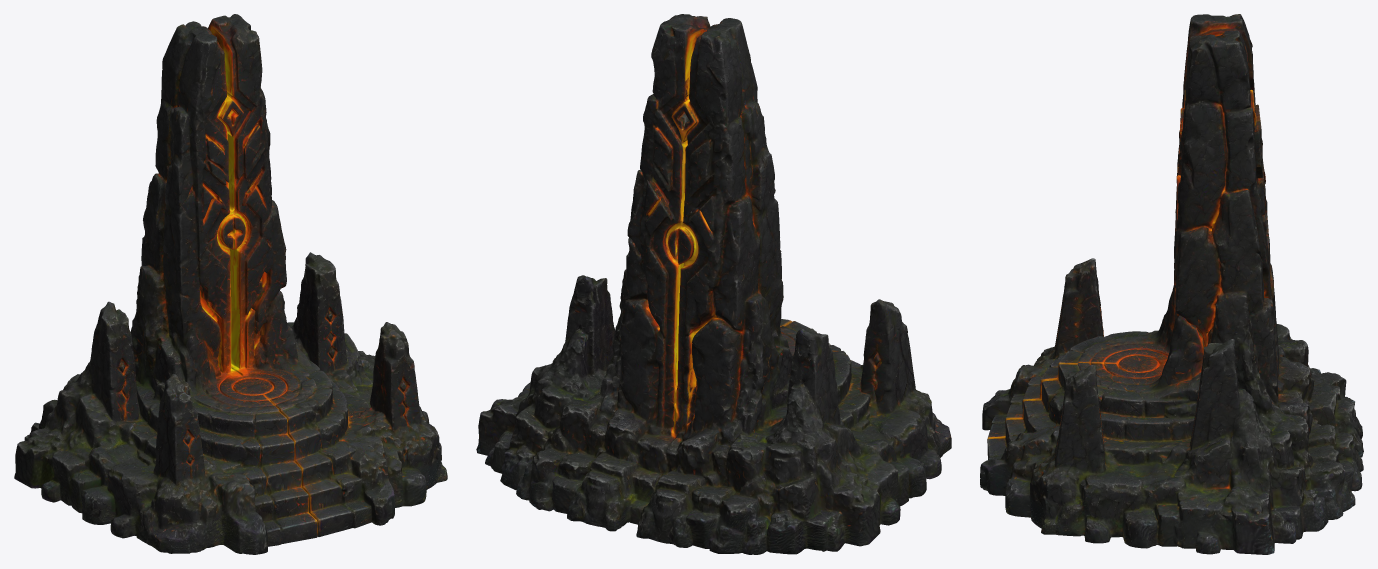
Rendered from Volcanic_Monolith.glb.
The picture shows the model from 3 angles, left to right: view 1: azimuth 30°, elevation 25°; view 2: azimuth 150°, elevation 25°; view 3: azimuth 270°, elevation 25°; orthographic projection. The views are drawn at different scales.
Visible parts, largest first — view 1: Volcanic_Monolith; view 2: Volcanic_Monolith; view 3: Volcanic_Monolith.
Part boxes in pixels (<box>): Volcanic_Monolith: <box>14,14,447,554</box>; Volcanic_Monolith: <box>476,14,951,554</box>; Volcanic_Monolith: <box>980,14,1363,554</box>.
Size of the model in its own units: 1.71 by 1.9 by 1.52.
Materials: 1 (1 with a texture image).
